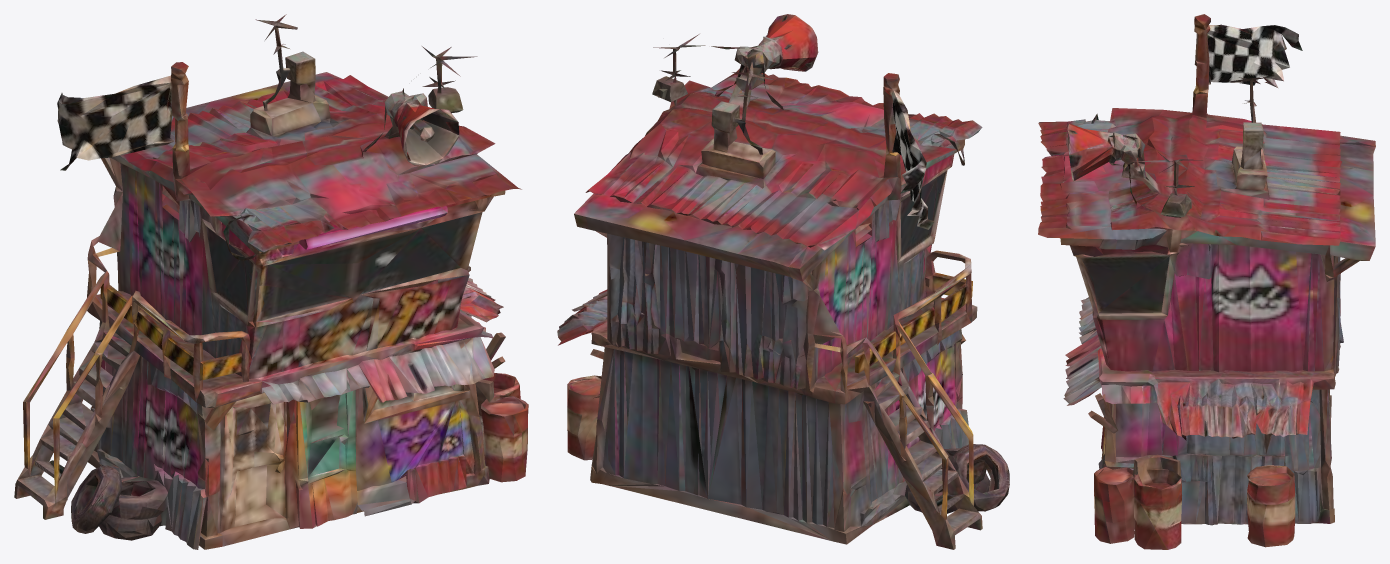
The model's file is prop_booth.glb.
The picture shows the model from 3 angles, left to right: view 1: azimuth 30°, elevation 25°; view 2: azimuth 150°, elevation 25°; view 3: azimuth 270°, elevation 25°; orthographic projection. The views are drawn at different scales.
Size of the model in its own units: 1.9 by 1.85 by 1.42.
1 material, 1 textured.
